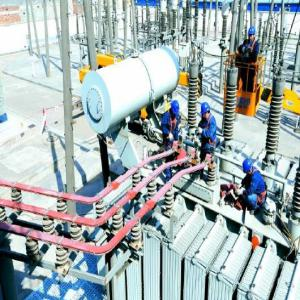blue: (200, 102, 212, 122), (244, 159, 254, 179), (170, 100, 180, 119), (248, 27, 256, 43)
